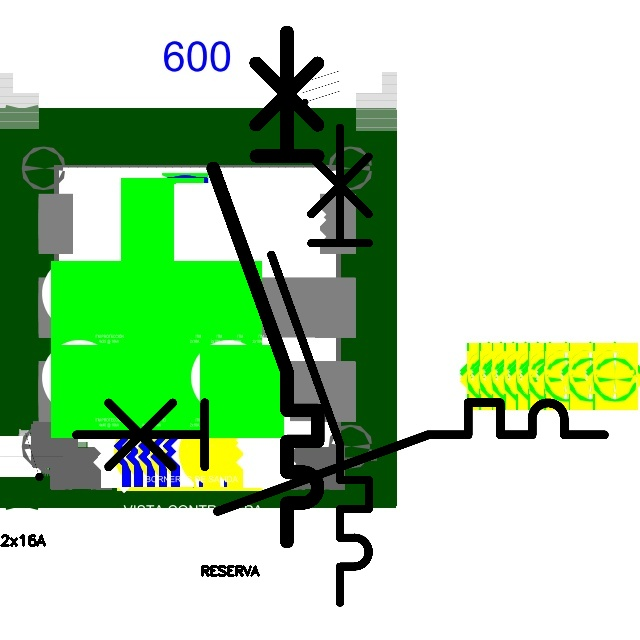interruptor_termomagnetico: (62, 389, 617, 525), (200, 19, 331, 555), (259, 115, 381, 614)
